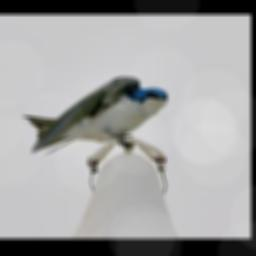Swallow: (21, 75, 169, 157)
